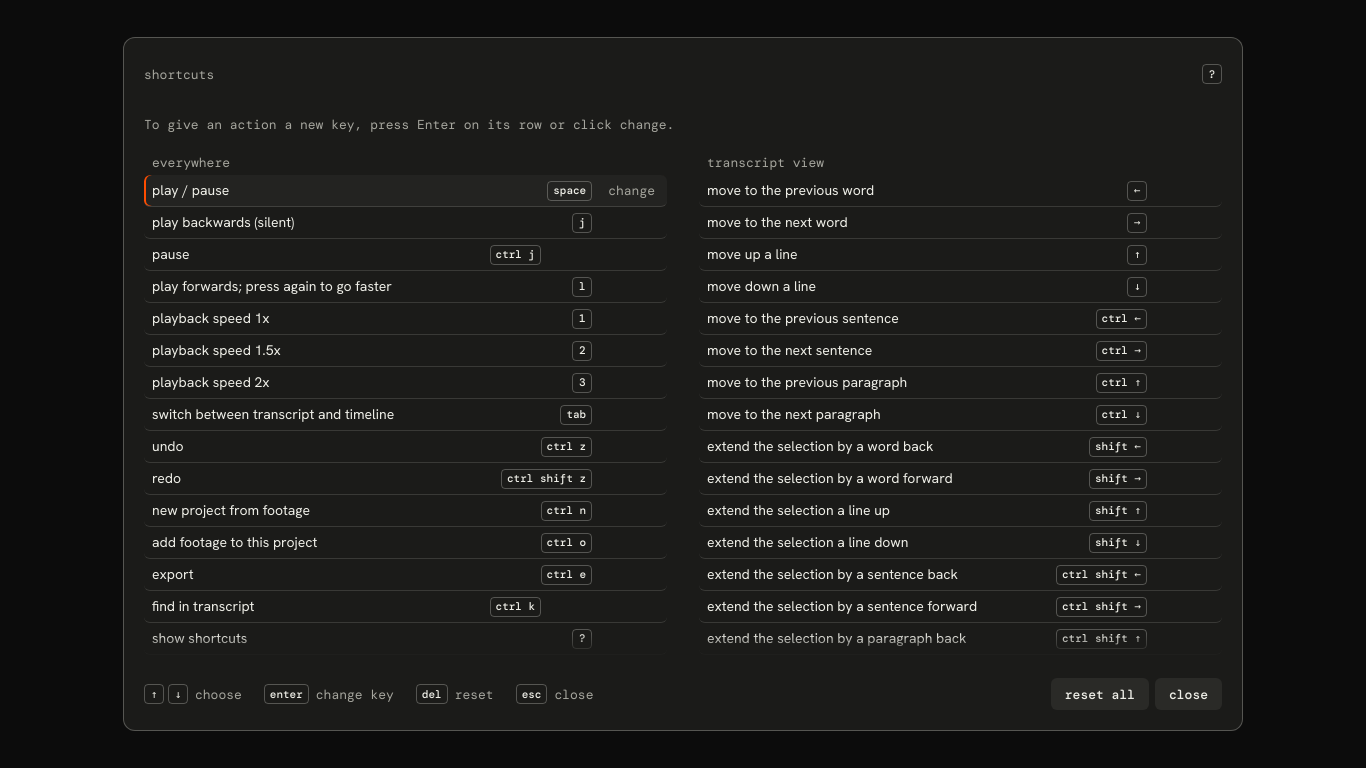
it: ShortcutOverlay › reset all puts every key back
The image size is (1366, 768).
Click the button "reset all" at (1100, 694), box [1051, 678, 1149, 710]
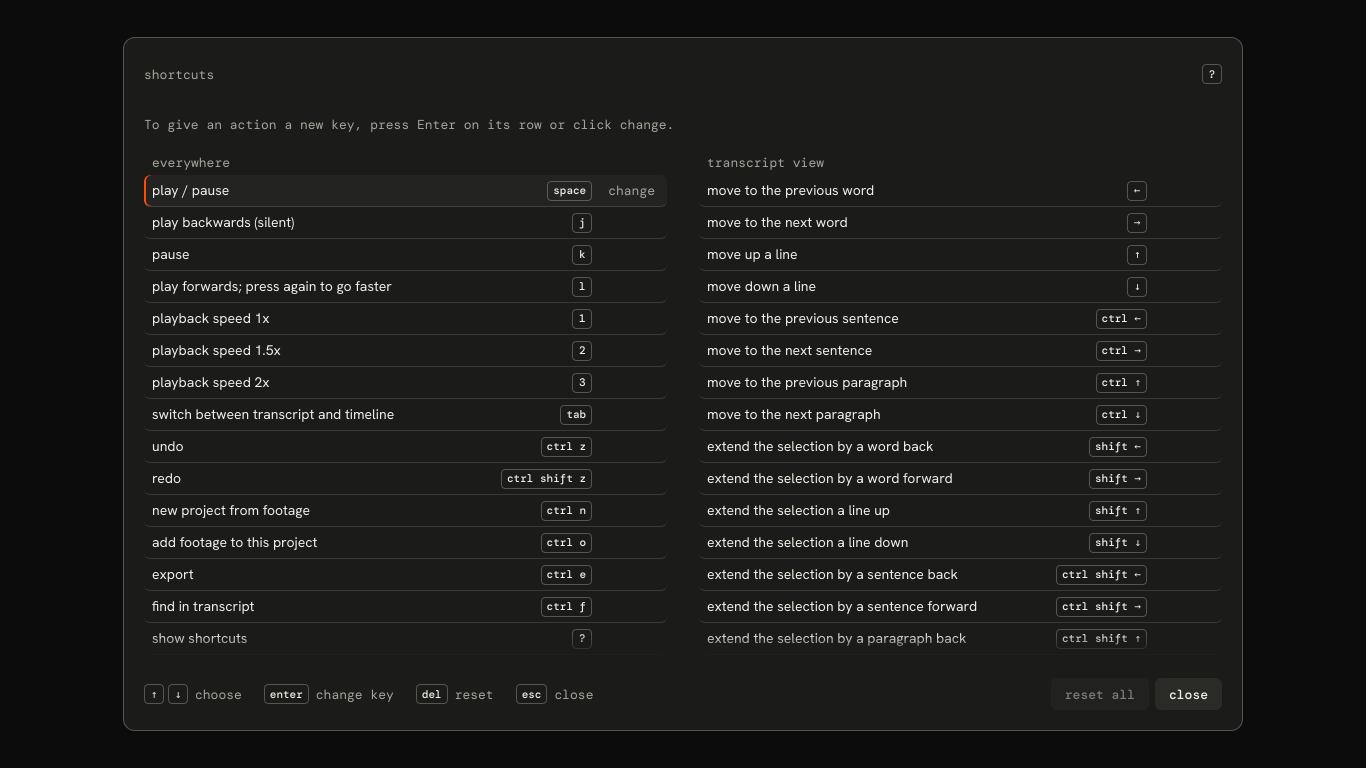
Now the button "reset all" is disabled, box [1051, 678, 1149, 710]
